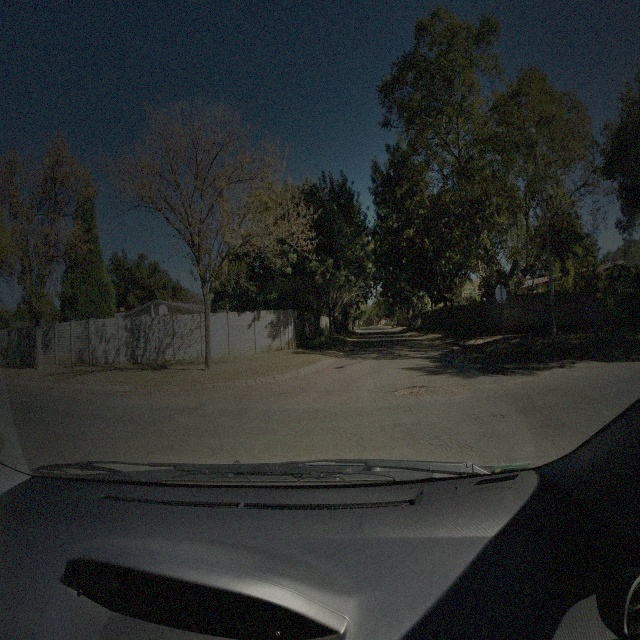pothole: (391, 382, 437, 398)
